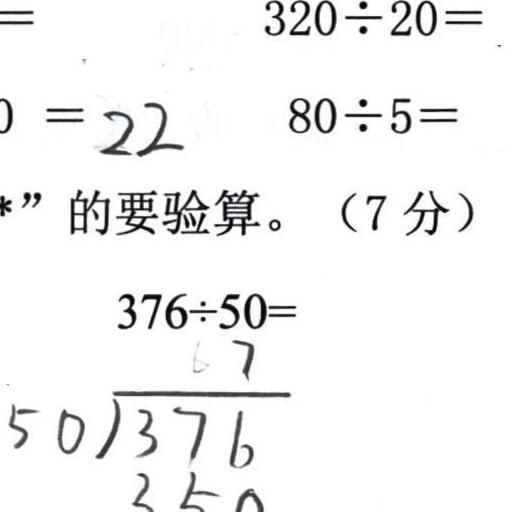ans: (93, 94, 183, 158)
